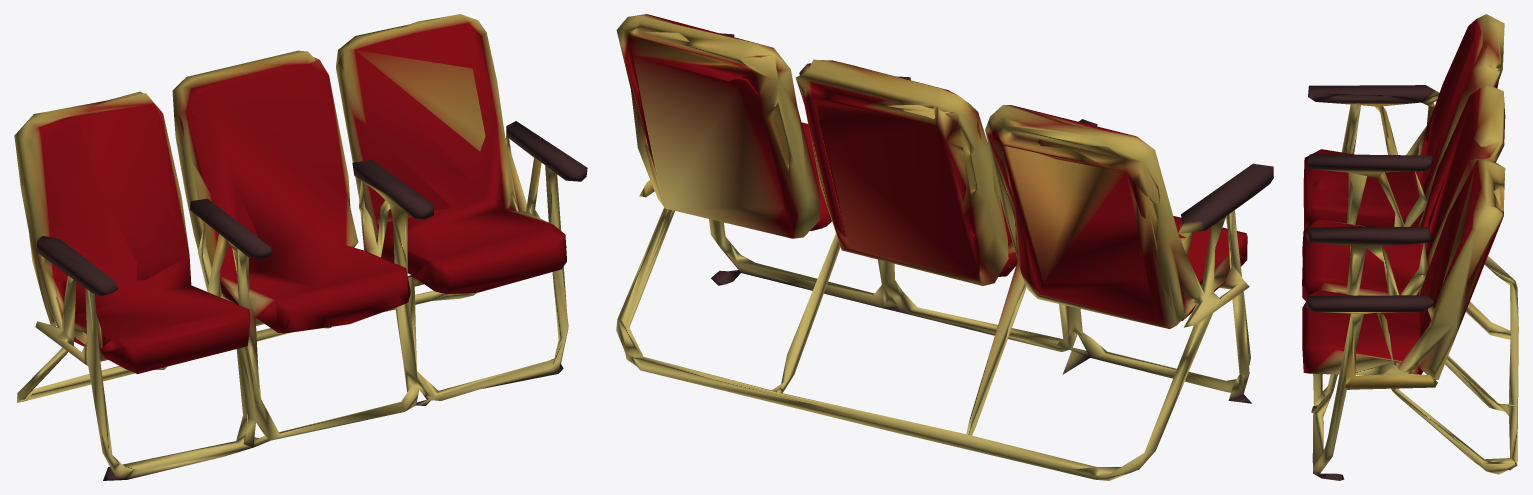
The model's file is gen3d-theater-seat-lod1.glb.
3 renders of one model, left to right at view 1: azimuth 30°, elevation 25°; view 2: azimuth 150°, elevation 25°; view 3: azimuth 270°, elevation 25°, orthographic. The views are drawn at different scales.
Visible parts, largest first — view 1: part_0; view 2: part_0; view 3: part_0.
Boxes of the visible parts, x1,y1,x2,y2 form: part_0: [14, 14, 587, 480]; part_0: [616, 14, 1273, 480]; part_0: [1302, 14, 1518, 480].
Size of the model in its own units: 1.74 by 0.9996 by 0.7261.
